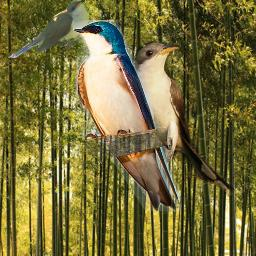Cuckoo: (127, 41, 236, 199), (7, 0, 89, 58)
Swallow: (73, 20, 181, 212)
